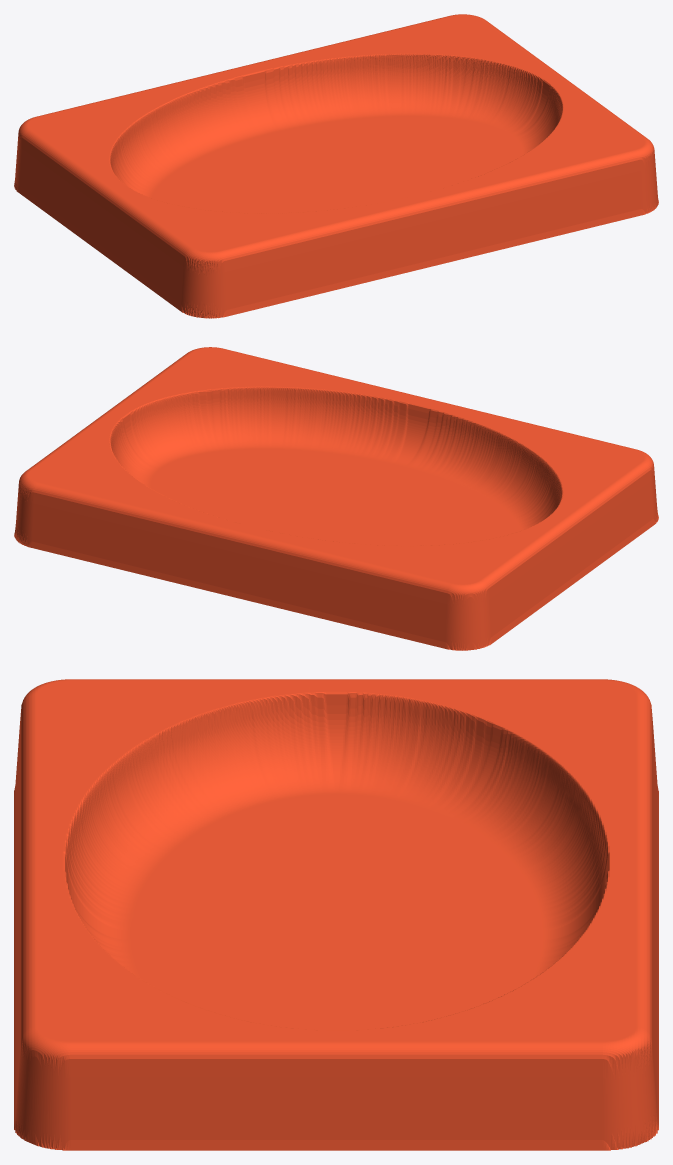
The model's file is mold.glb.
3 renders of one model, top to bottom at view 1: azimuth 30°, elevation 25°; view 2: azimuth 150°, elevation 25°; view 3: azimuth 270°, elevation 25°, orthographic. The views are drawn at different scales.
Visible parts, largest first — view 1: geometry_0; view 2: geometry_0; view 3: geometry_0.
Boxes of the visible parts, left/top/right/bottom form: geometry_0: left=14, top=14, right=658, bottom=318; geometry_0: left=14, top=347, right=658, bottom=650; geometry_0: left=14, top=679, right=658, bottom=1150.
Bounding box in the file's own units: 0.1435 × 0.0175 × 0.1029.
